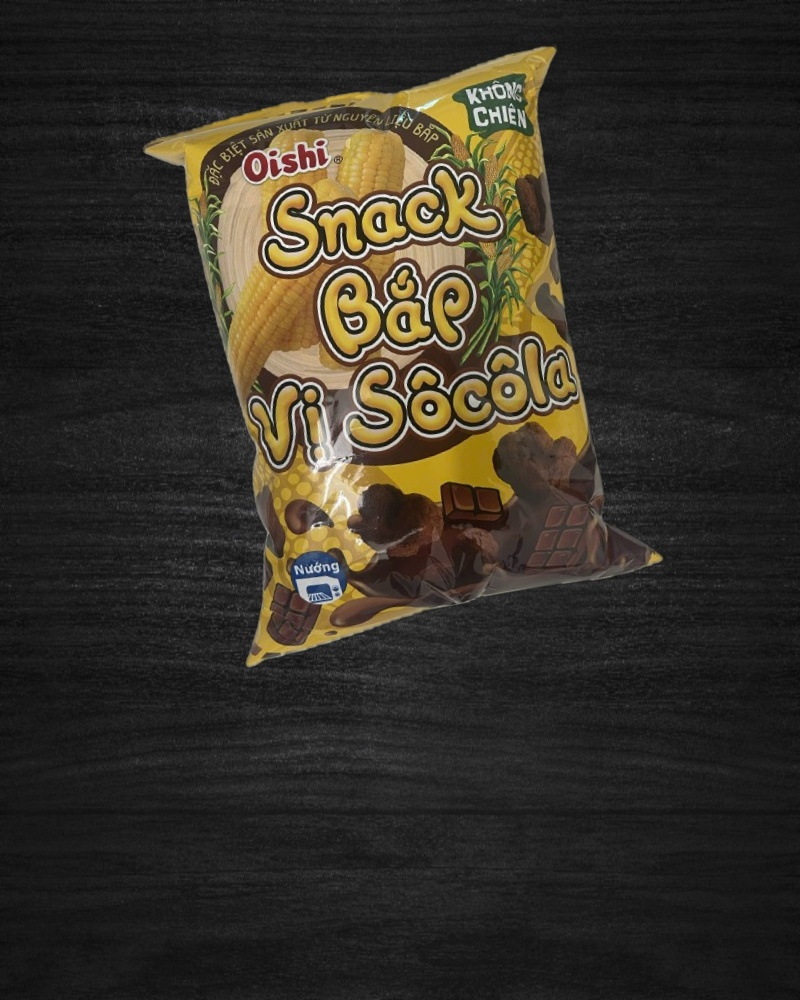Snack socola: (140, 45, 668, 658)
